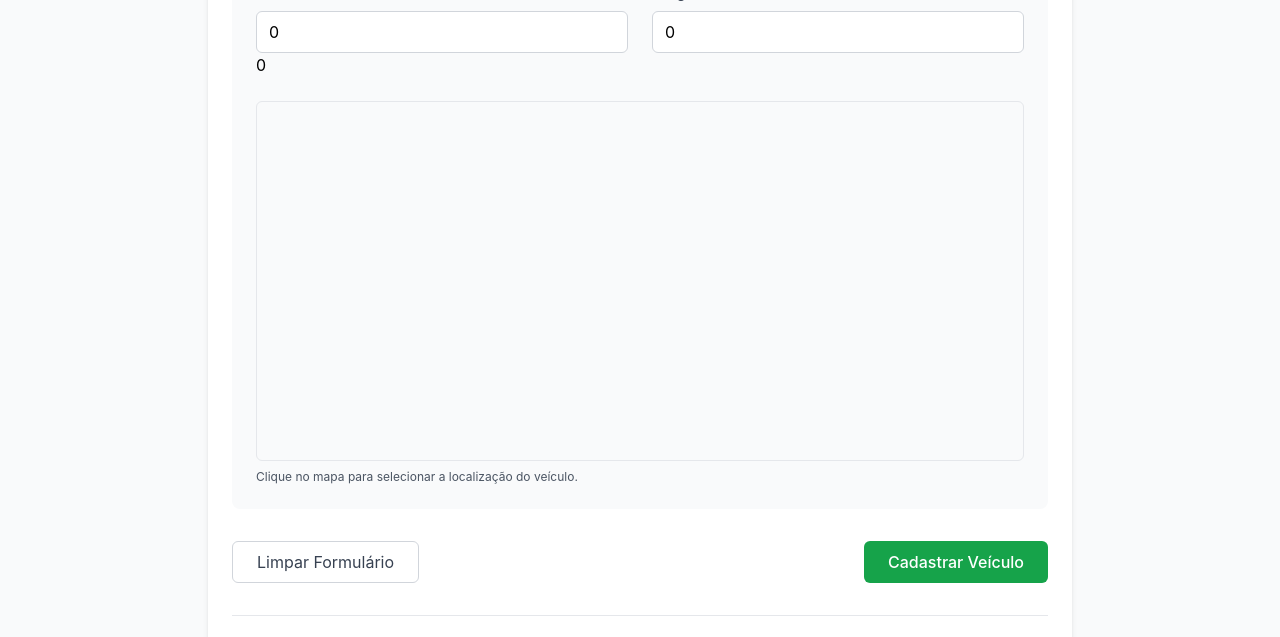
Test: VehicleRegister › should validate required fields
(page scrolled)
Click the button "Cadastrar Veículo" at coordinates (956, 562), box [864, 541, 1048, 583]
(page scrolled)
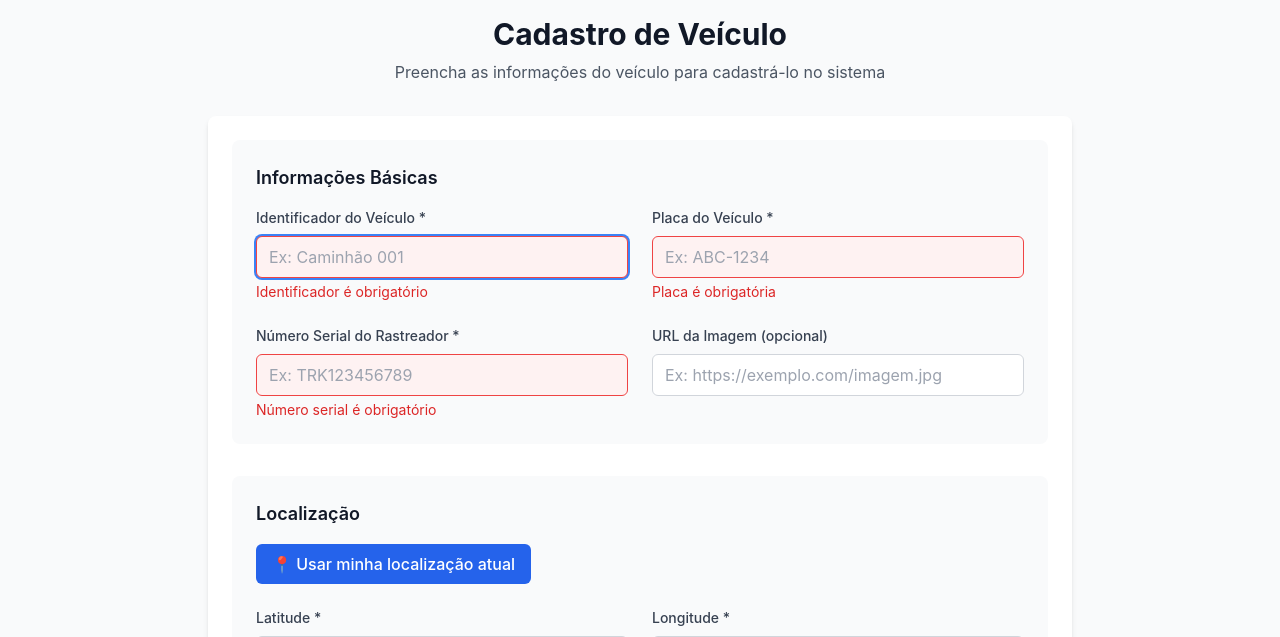
Now the text "Identificador é obrigatório" is shown, box [256, 283, 428, 300]
Now the text "Placa é obrigatória" is shown, box [652, 283, 776, 300]
Now the text "Número serial é obrigatório" is shown, box [256, 401, 436, 418]
